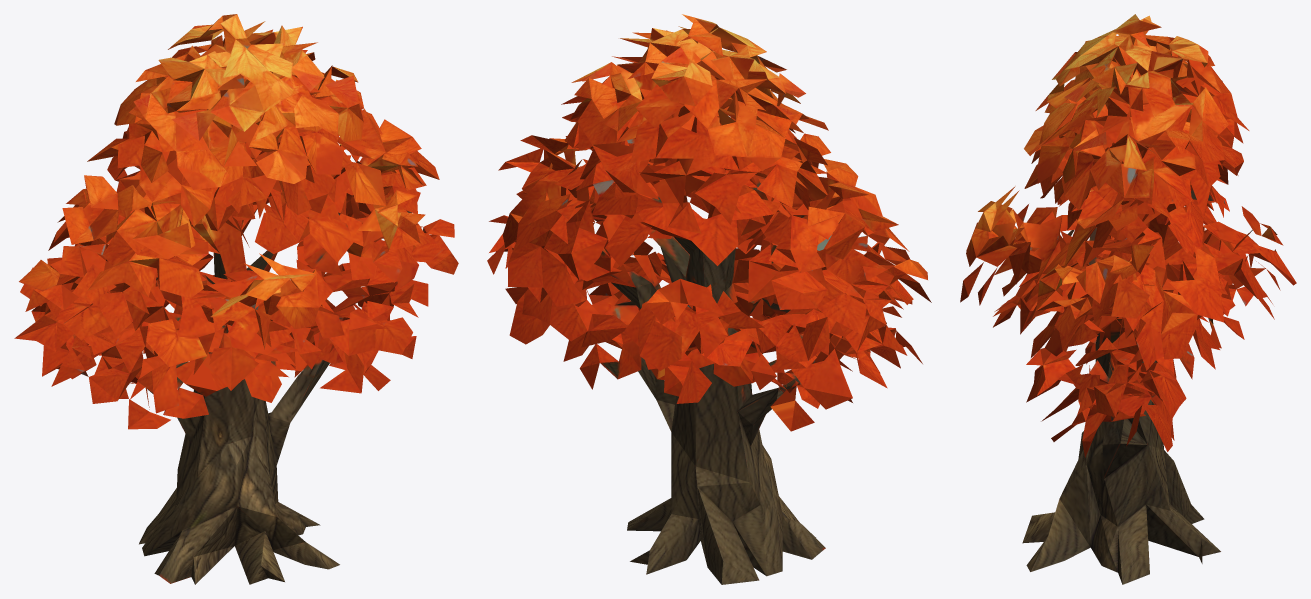
The model's file is tree_autumn.glb.
The picture shows the model from 3 angles, left to right: view 1: azimuth 30°, elevation 25°; view 2: azimuth 150°, elevation 25°; view 3: azimuth 270°, elevation 25°; orthographic projection.
Bounding box in the file's own units: 1.65 × 1.9 × 1.1.
Materials: 1 (1 with a texture image).
